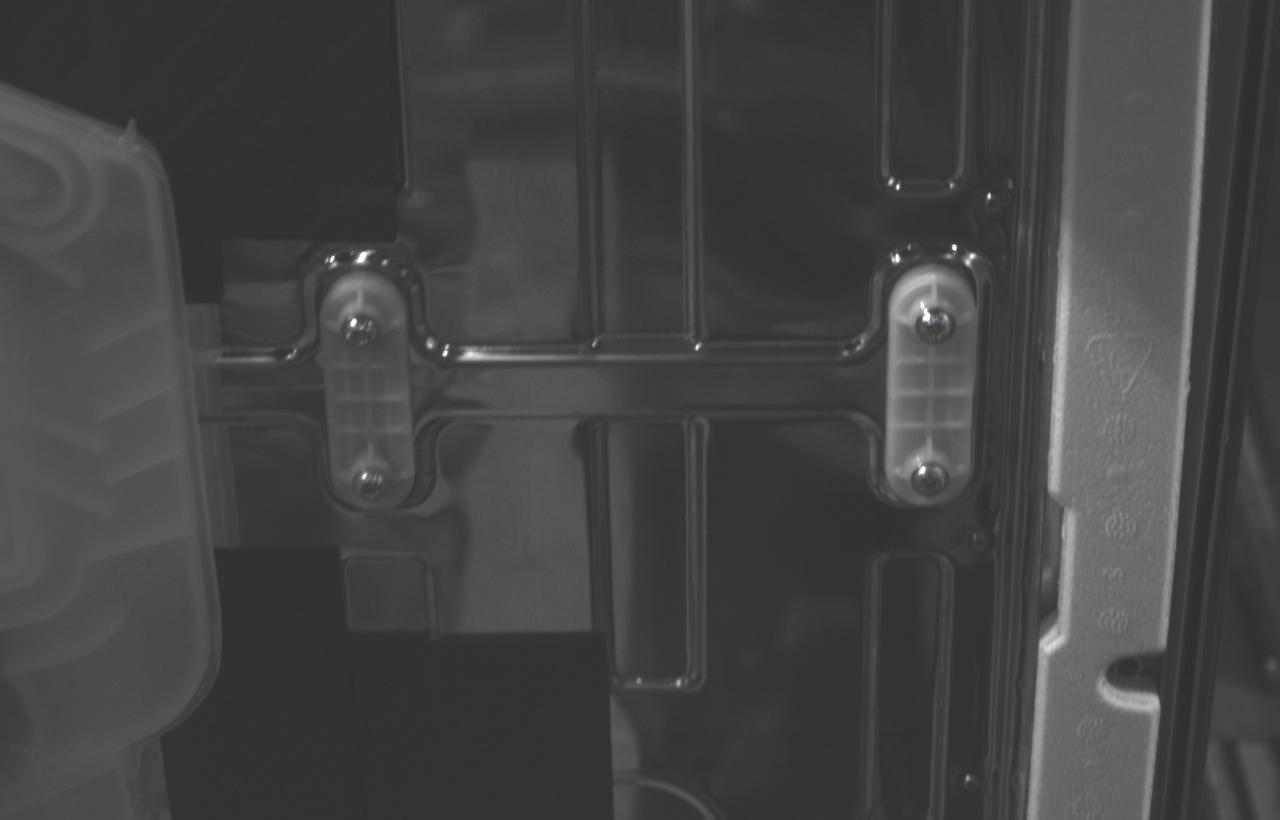vida-ok: (339, 312, 381, 353), (915, 306, 957, 347), (911, 461, 952, 502), (352, 466, 391, 505)
